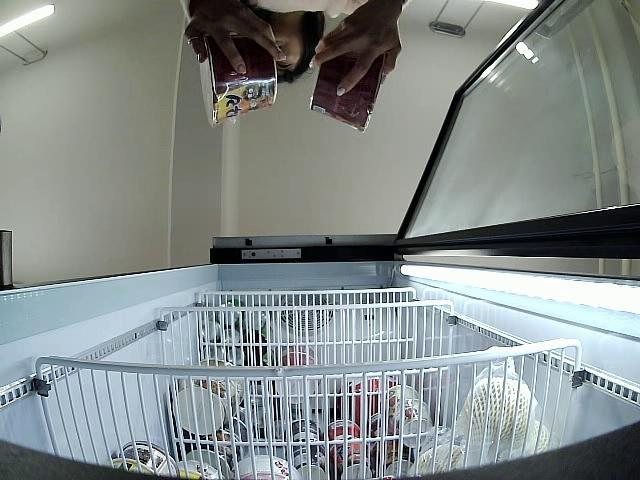05_nuguri_L: (200, 30, 278, 128), (308, 55, 386, 134)
